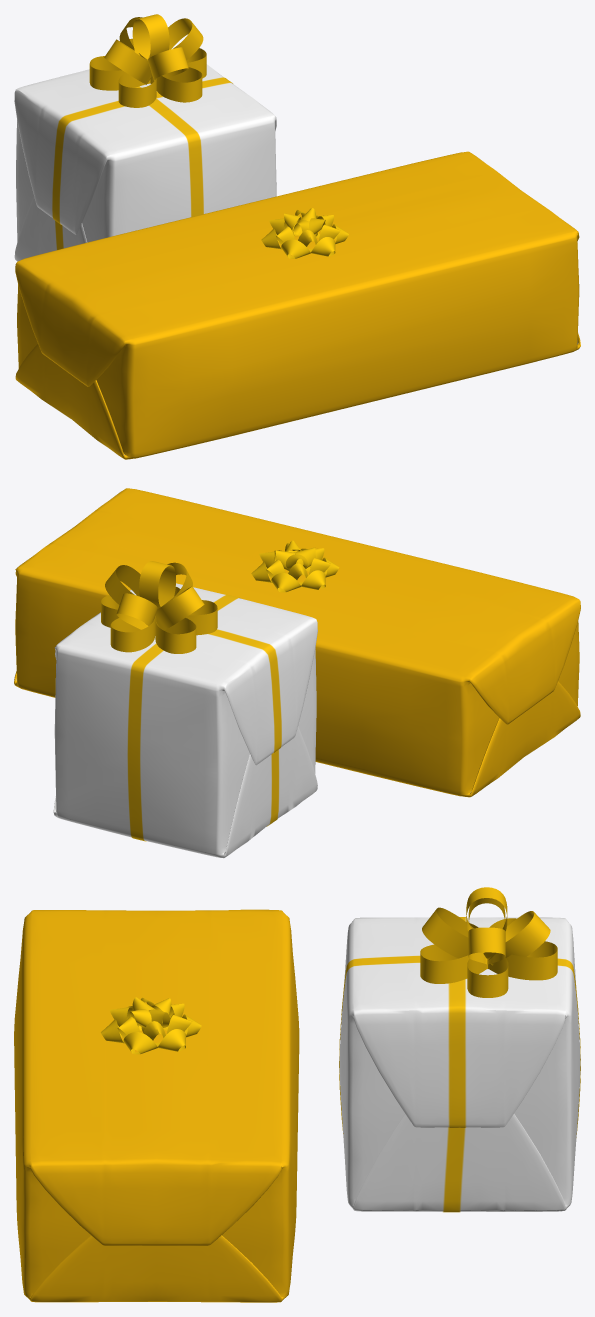
File: gift-box.v1.glb
The picture shows the model from 3 angles, top to bottom: view 1: azimuth 30°, elevation 25°; view 2: azimuth 150°, elevation 25°; view 3: azimuth 270°, elevation 25°; orthographic projection. The views are drawn at different scales.
Visible parts, largest first — view 1: Present 02 Ribbon.Shape_WrappingPaper_0, Present01.Shape_WrappingPaper_0, Bow03.Shape_Ribbon_0, Present 01 Ribbon.Shape_WrappingPaper_0, bow01.Shape_Ribbon_0; view 2: Present 02 Ribbon.Shape_WrappingPaper_0, Present01.Shape_WrappingPaper_0, Bow03.Shape_Ribbon_0, Present 01 Ribbon.Shape_WrappingPaper_0, bow01.Shape_Ribbon_0; view 3: Present 02 Ribbon.Shape_WrappingPaper_0, Present01.Shape_WrappingPaper_0, Bow03.Shape_Ribbon_0, Present 01 Ribbon.Shape_WrappingPaper_0, bow01.Shape_Ribbon_0.
Boxes of the visible parts, x1,y1,x2,y2 form: Present 02 Ribbon.Shape_WrappingPaper_0: (15, 151, 580, 459); Present01.Shape_WrappingPaper_0: (14, 64, 578, 454); Bow03.Shape_Ribbon_0: (89, 14, 206, 107); Present 01 Ribbon.Shape_WrappingPaper_0: (52, 77, 232, 249); bow01.Shape_Ribbon_0: (261, 208, 348, 258); Present 02 Ribbon.Shape_WrappingPaper_0: (14, 488, 580, 797); Present01.Shape_WrappingPaper_0: (16, 583, 580, 858); Bow03.Shape_Ribbon_0: (101, 561, 217, 653); Present 01 Ribbon.Shape_WrappingPaper_0: (127, 594, 281, 841); bow01.Shape_Ribbon_0: (251, 540, 339, 592); Present 02 Ribbon.Shape_WrappingPaper_0: (14, 909, 299, 1302); Present01.Shape_WrappingPaper_0: (339, 917, 580, 1211); Bow03.Shape_Ribbon_0: (420, 887, 557, 997); Present 01 Ribbon.Shape_WrappingPaper_0: (339, 917, 580, 1212); bow01.Shape_Ribbon_0: (101, 997, 201, 1054).
Bounding box in the file's own units: 1.11 × 0.5668 × 1.01.
Materials: 5 (2 with a texture image).
